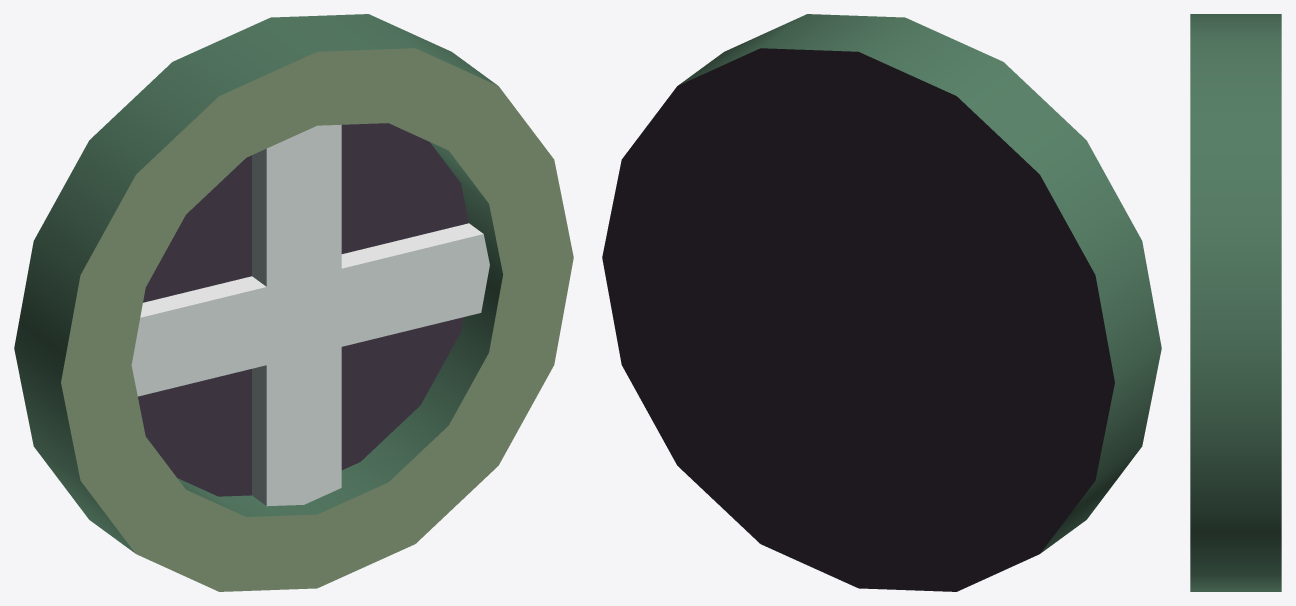
File: SmallWindow02_Green_White.glb
3 renders of one model, left to right at view 1: azimuth 30°, elevation 25°; view 2: azimuth 150°, elevation 25°; view 3: azimuth 270°, elevation 25°, orthographic. The views are drawn at different scales.
Visible parts, largest first — view 1: SmallWindow02_Green_White; view 2: SmallWindow02_Green_White; view 3: SmallWindow02_Green_White.
Boxes of the visible parts, bbox=[...] form: SmallWindow02_Green_White: bbox=[14, 14, 573, 591]; SmallWindow02_Green_White: bbox=[602, 14, 1161, 591]; SmallWindow02_Green_White: bbox=[1190, 14, 1281, 591].
Size of the model in its own units: 0.5633 by 0.5633 by 0.089.
Materials: 1 (1 with a texture image).
